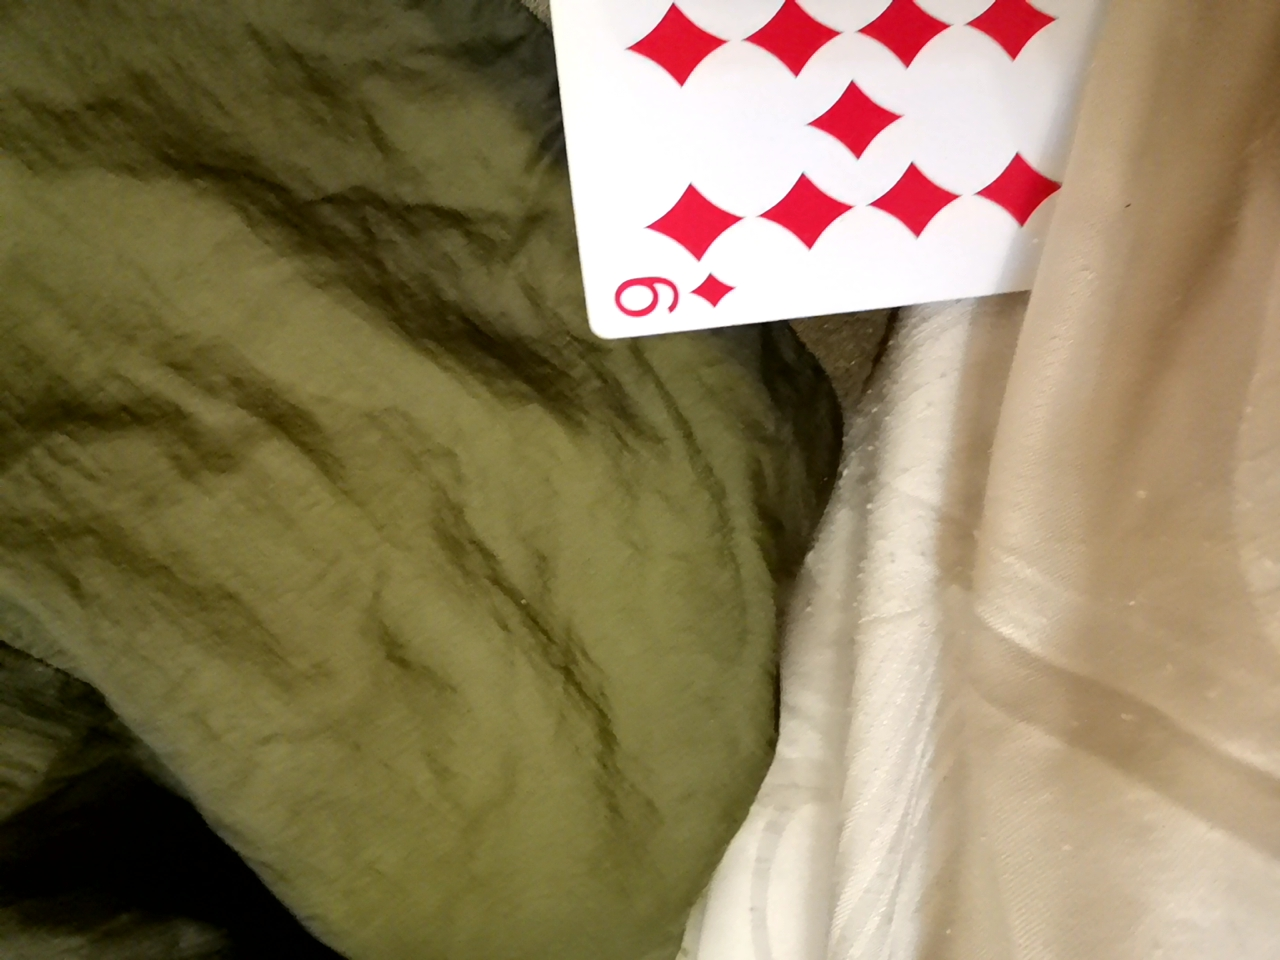fk 9: (535, 0, 1108, 359)
